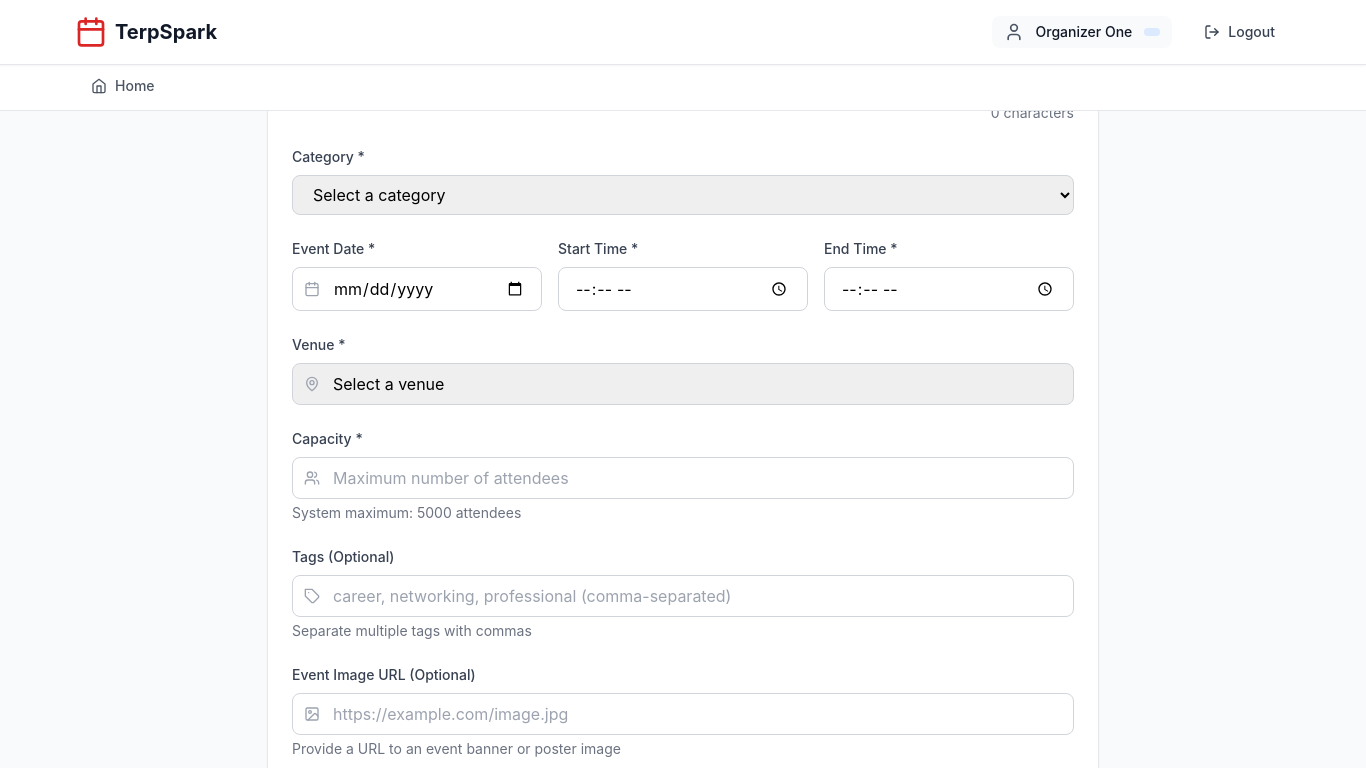
CreateEventPage › clears venue selection when invalid venue ID is selected
(page scrolled)
Select "Stamp Student Union - Stamp Student Union (Capacity: 500)" in the dropdown below "Venue *" at (683, 384), box [292,363,1074,405]
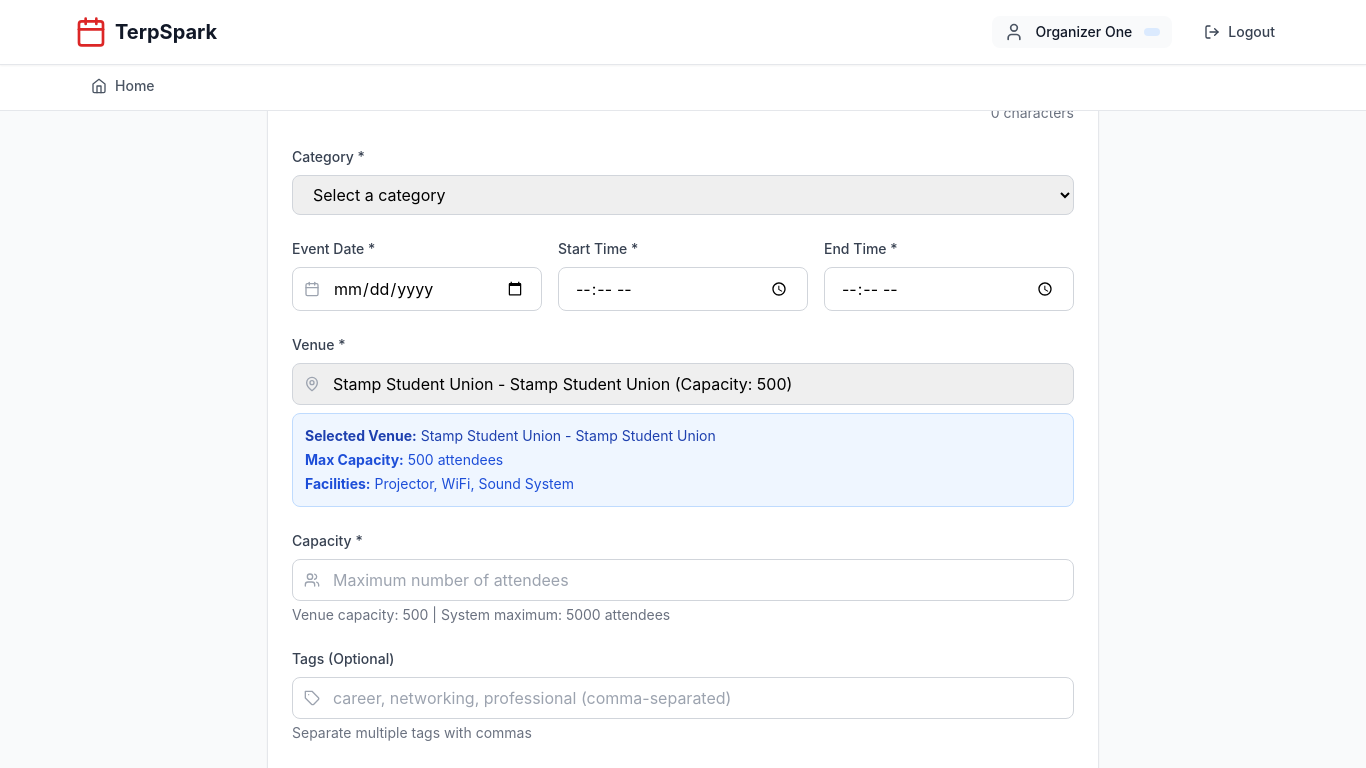
Expected: the text "Selected Venue:" is shown, [305,427,417,444]
Select "invalid-venue-id" in the dropdown below "Venue *" at (683, 384), box [292,363,1074,405]
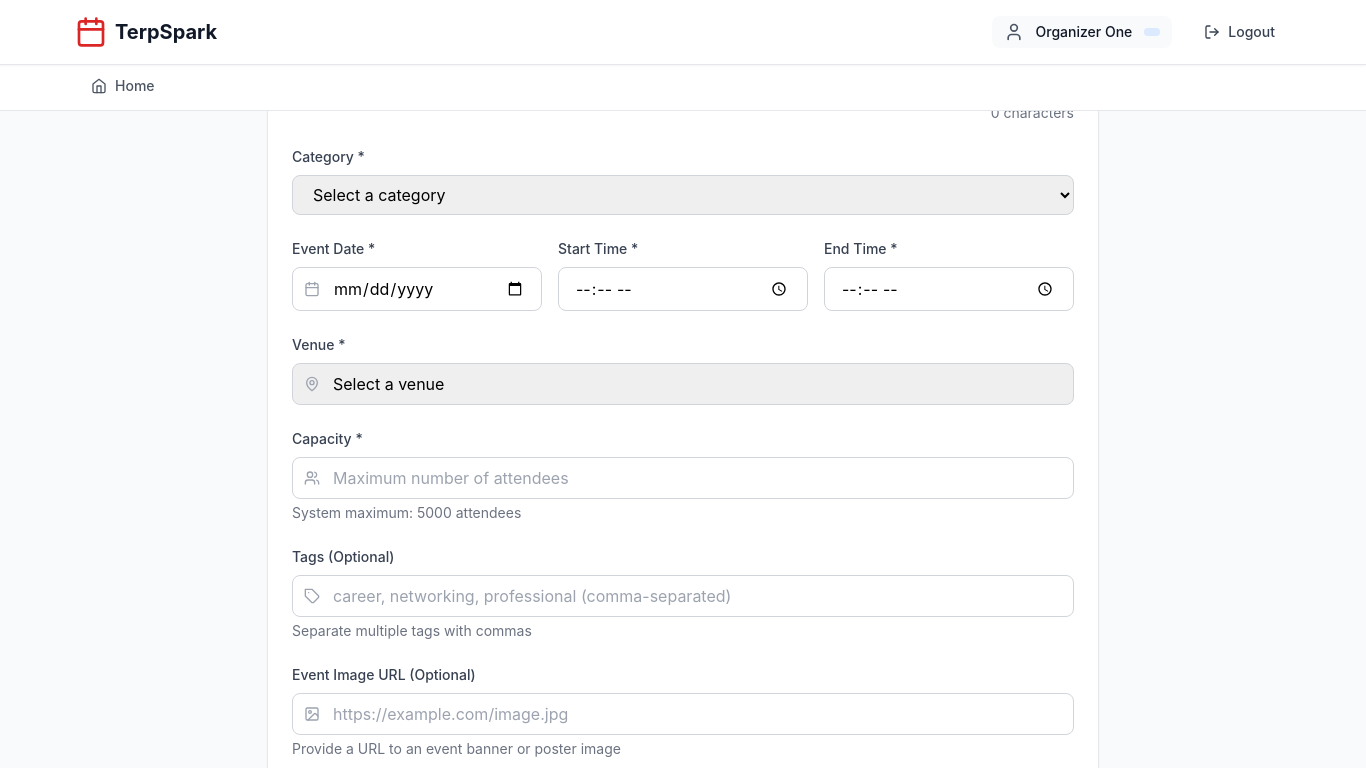
Expected: the text "Selected Venue" is gone
